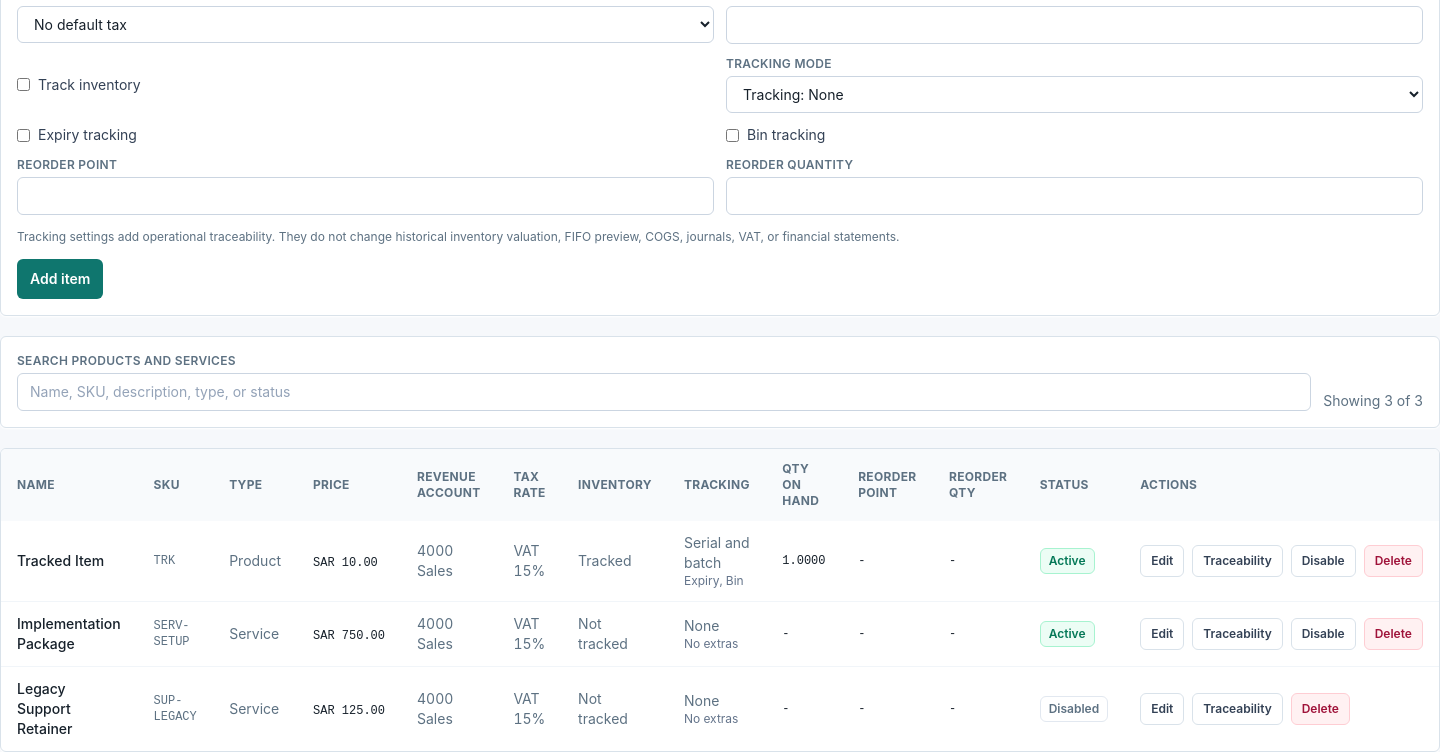
ItemsPage traceability settings › filters the catalog by SKU, description, type, and status without reloading items
(page scrolled)
Check: the text "Tracked Item" is shown, box [1,521,138,602]
In the search field labelled "Search products and services": [664, 392] box [17,373,1311,411], type "SERV-SETUP"
(page scrolled)
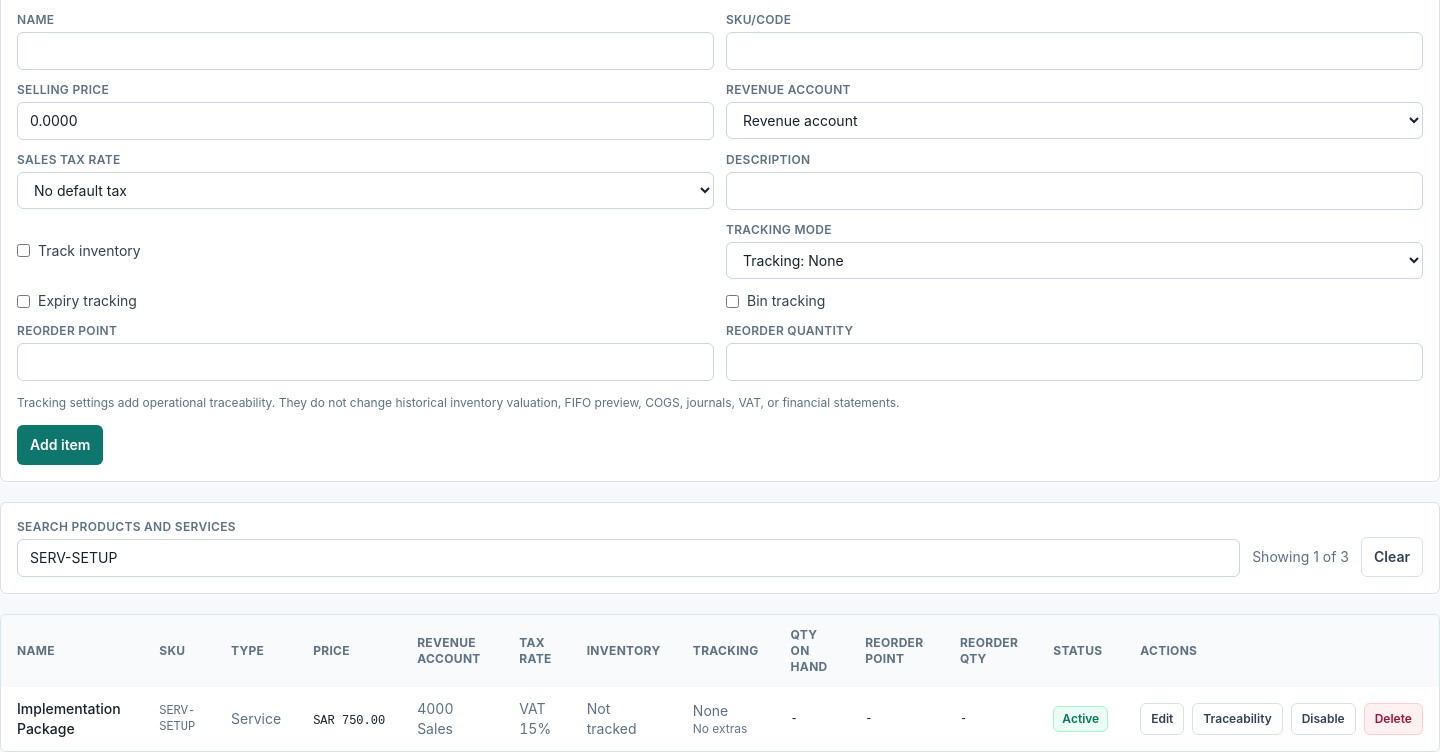
Check: the text "Implementation Package" is shown, box [1,687,143,751]
Check: the text "Tracked Item" is gone
Check: the text "Legacy Support Retainer" is gone
Replace the text in the search field labelled "Search products and services" with "disabled": [629, 558] box [17,539,1240,577]
(page scrolled)
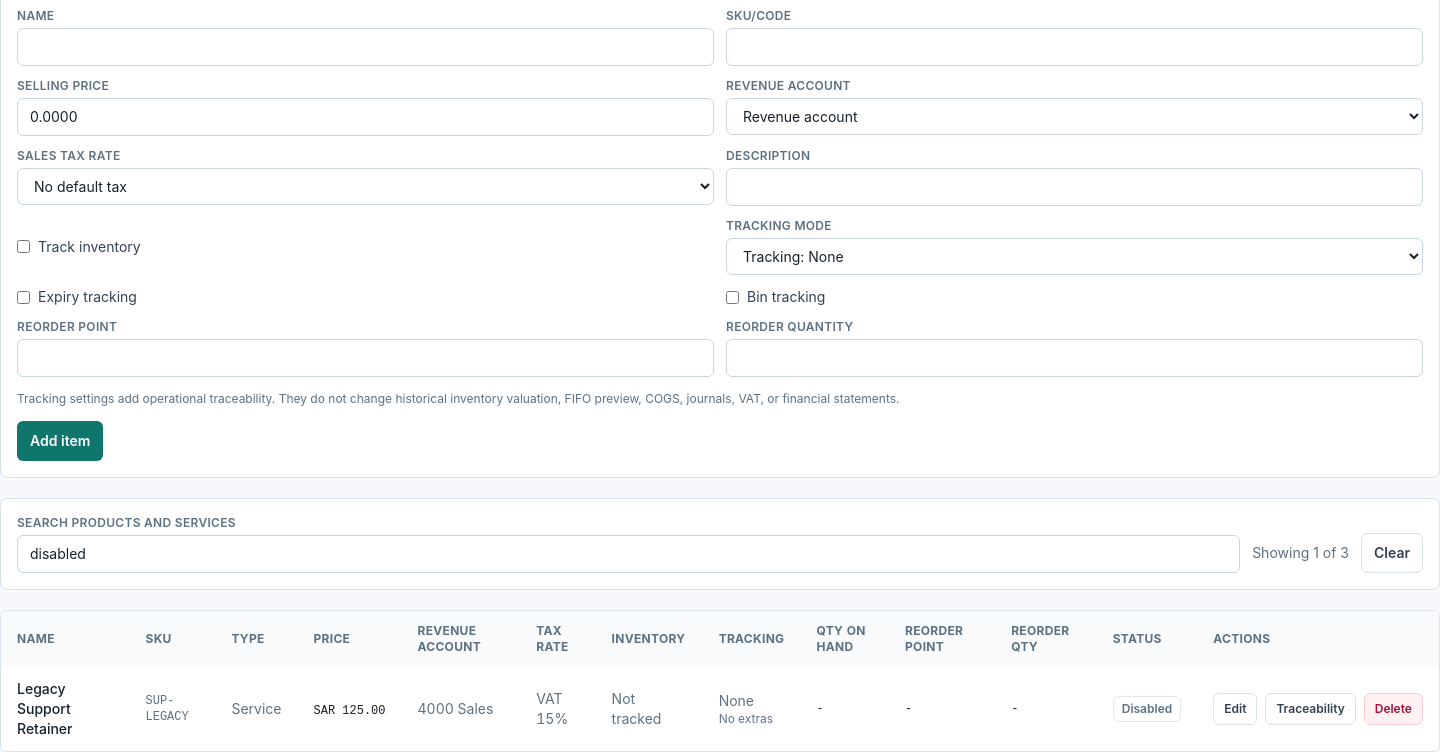
Check: the text "Legacy Support Retainer" is shown, box [1,667,130,751]
Check: the text "Implementation Package" is gone
Replace the text in the search field labelled "Search products and services" with "product": [629, 554] box [17,535,1240,573]
(page scrolled)
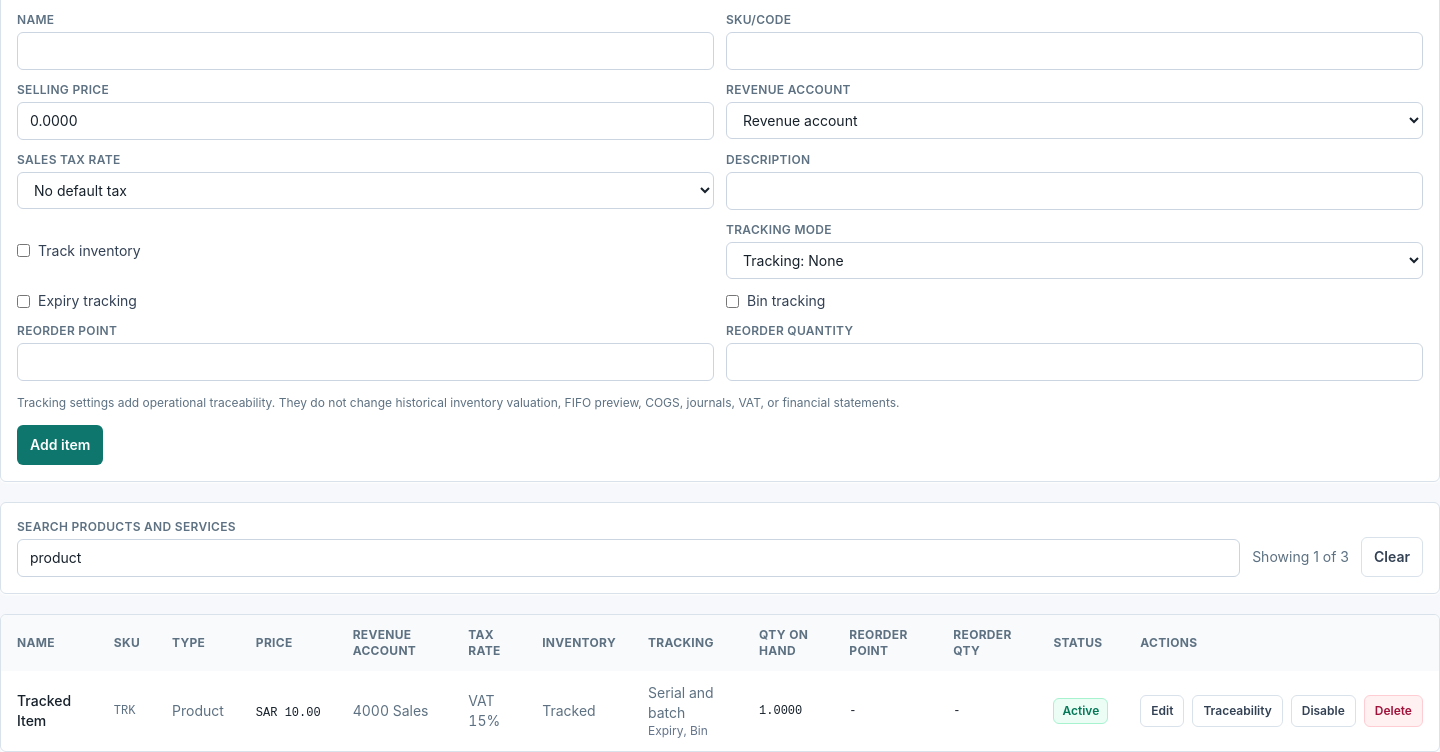
Check: the text "Implementation Package" is not shown
Check: the text "Tracked Item" is shown, box [1,671,98,751]
